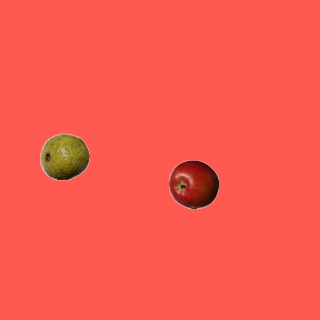Apple Braeburn: (168, 159, 218, 209)
Guava: (39, 131, 89, 181)
